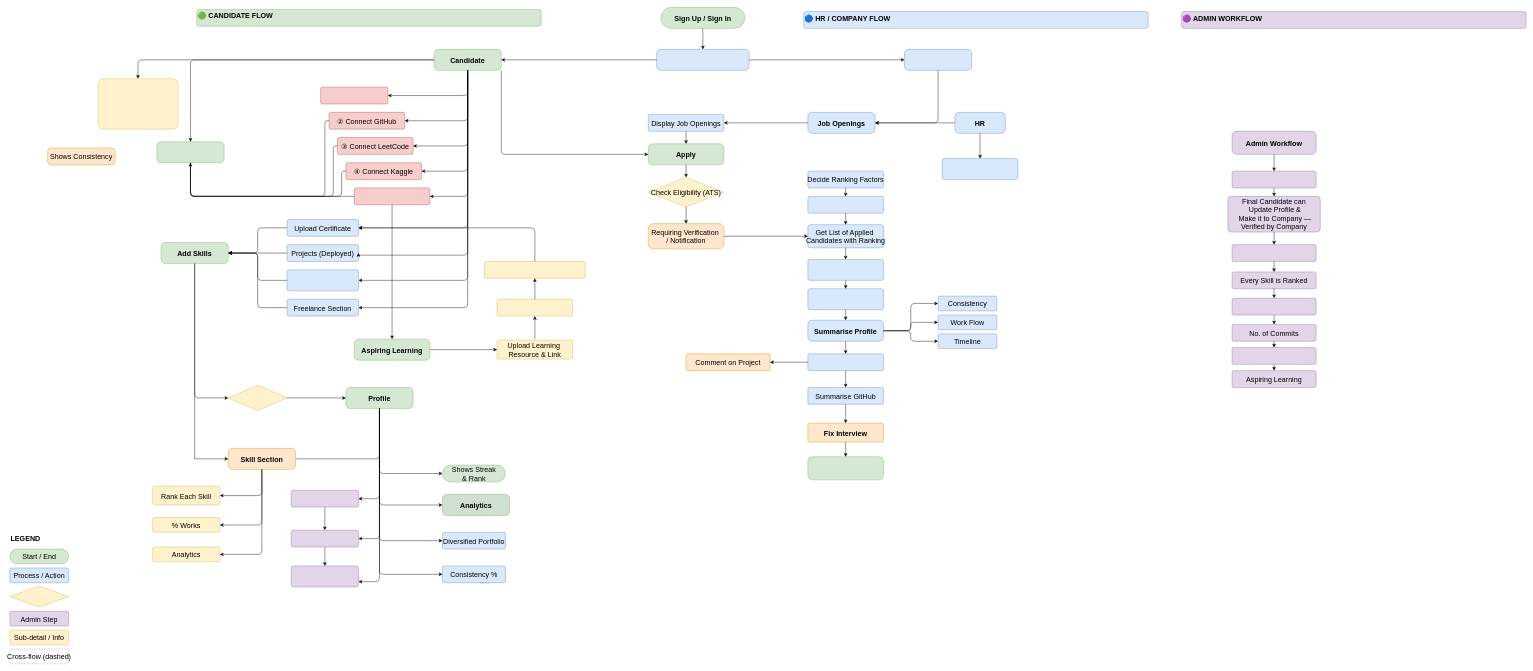
The diagram is 1533 pixels wide and 671 high, and some of its shapes have lost their labels. The shapes that lost their labels are listed below. From the top down, each one's box as (x1, y1, x2, y2) in pixels, then its label:
(656, 49, 749, 70): Candidate / Company
(904, 49, 972, 70): Company
(98, 78, 178, 129): Filters ① Seeking Job ② Seeking Internship ③ Seeking Freelance
(320, 87, 388, 104): ① Basic Details
(156, 141, 224, 163): Maintain Streak
(942, 158, 1018, 180): Can Explore Candidates
(354, 188, 430, 205): ⑤ Aspiring Learning
(1232, 171, 1316, 188): Maintain Verification
(807, 196, 883, 213): ATS Requirements
(484, 261, 585, 278): Add Proof of Completion
(807, 259, 883, 280): Can View Candidate Profile / Resume
(1232, 244, 1316, 261): Maintains Rank Transparency
(287, 269, 358, 291): Internship / Current Job Status
(807, 288, 883, 310): Calculate ATS of Whole Profile
(497, 299, 573, 316): Decide Timeline
(1232, 298, 1316, 315): Consistency is Ranked
(807, 353, 883, 371): View Project
(1232, 347, 1316, 364): DSA Questions
(228, 385, 287, 411): Decide Rank
(807, 456, 883, 480): Final Candidate
(291, 490, 358, 507): Resume Make & Upload
(291, 530, 358, 547): ATS Calculator
(291, 565, 358, 587): AI Suggestion → To Improve Rank
(9, 586, 69, 607): Decision
